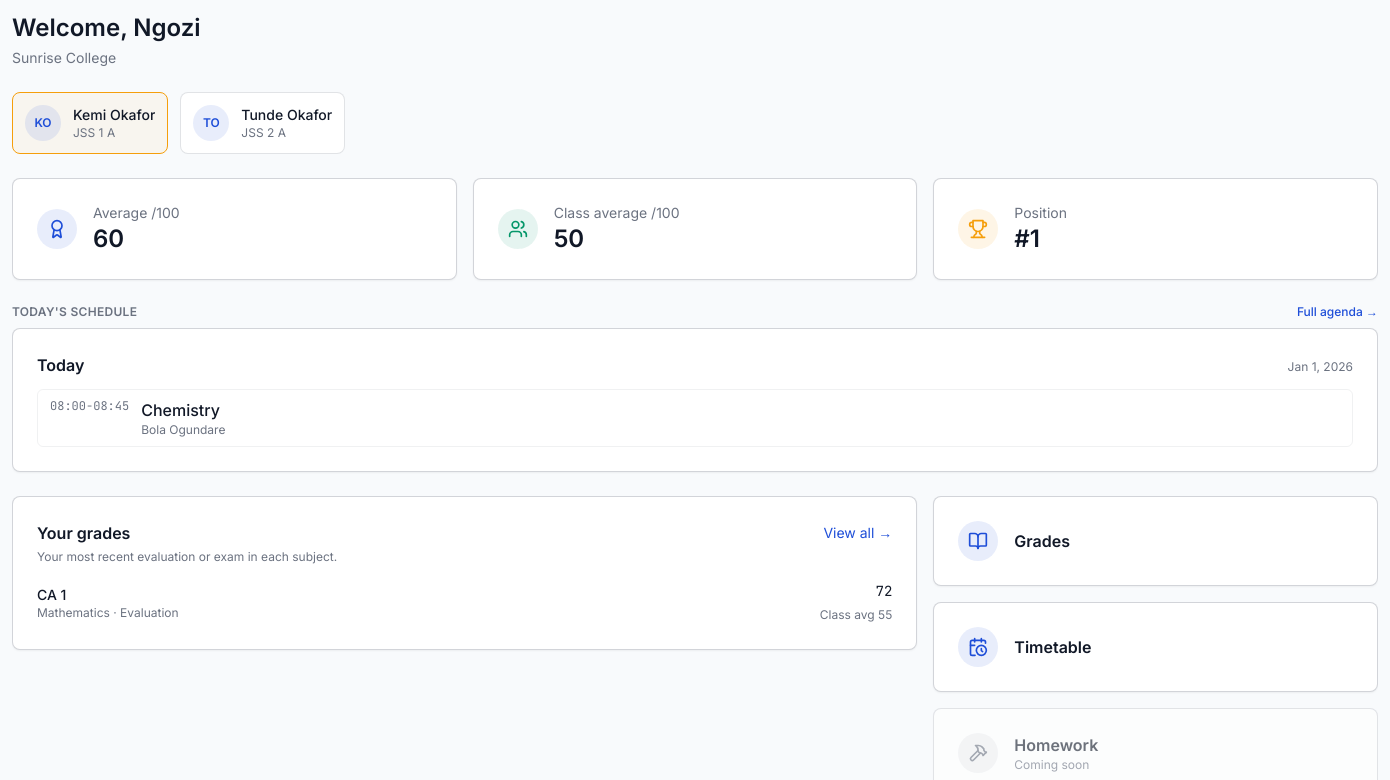
ParentDashboard › switching child via the switcher swaps every figure to the new child's data
Check: the text "60" is shown, box left=93, top=224, right=124, bottom=253
Click the button "TO Tunde Okafor JSS 2 A" at [263, 123], box left=180, top=92, right=345, bottom=154
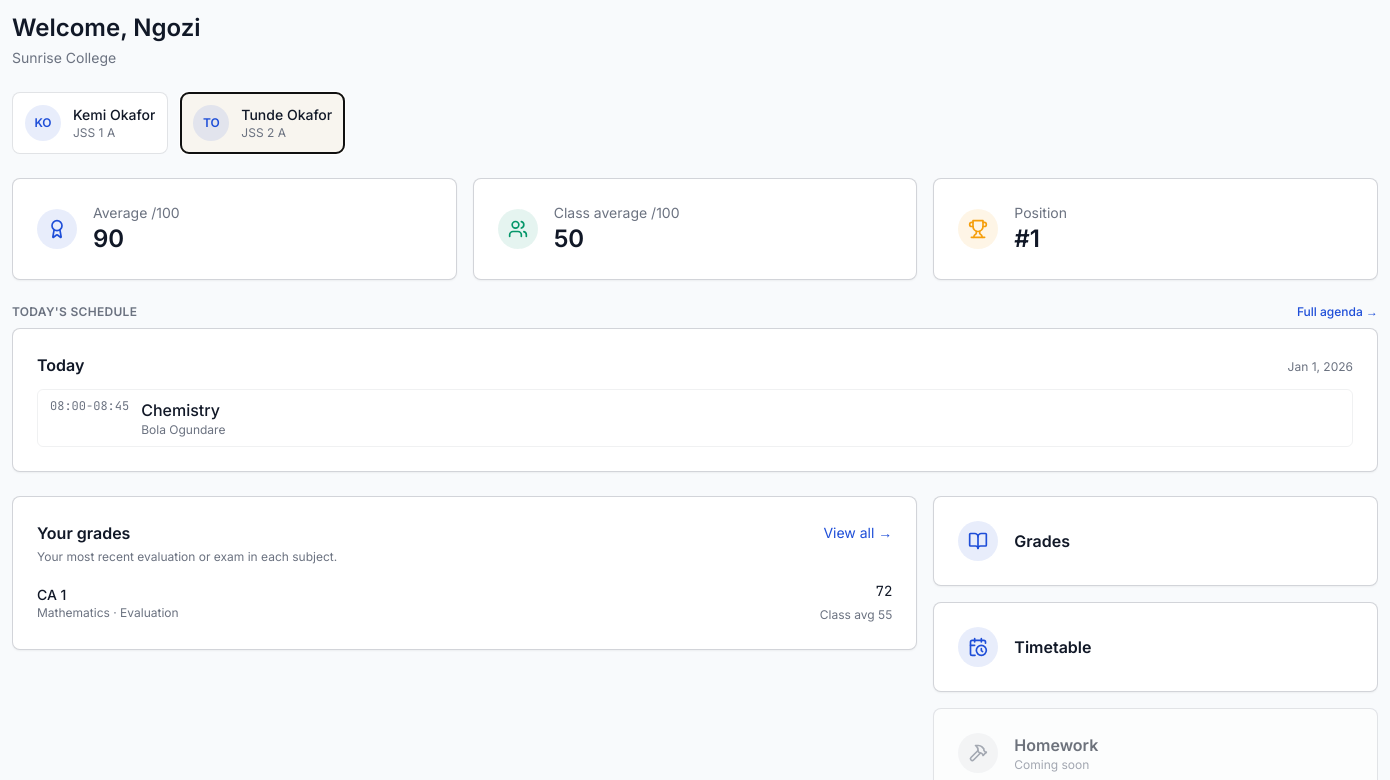
Check: the text "90" is shown, box left=93, top=224, right=124, bottom=253
Check: the text "60" is gone
